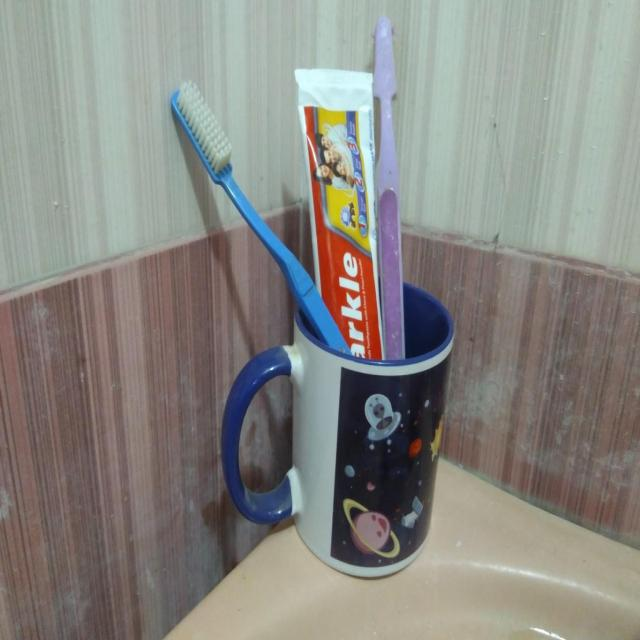Toothpaste: (288, 64, 389, 370)
